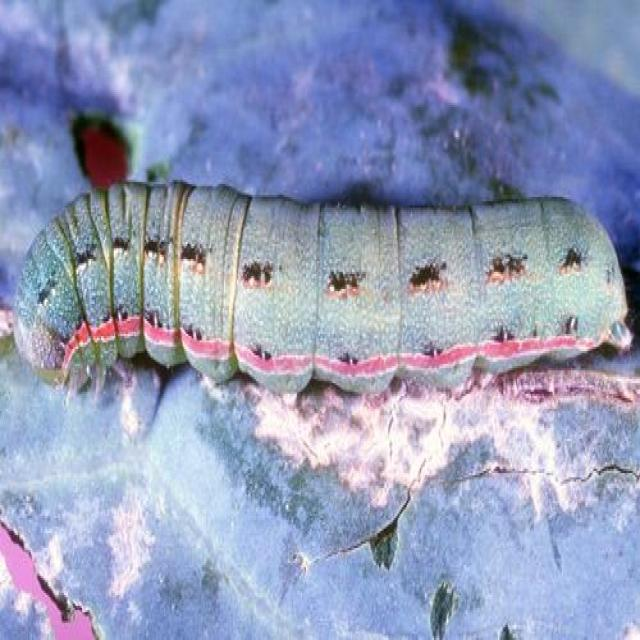armyworm: (11, 169, 636, 408)
